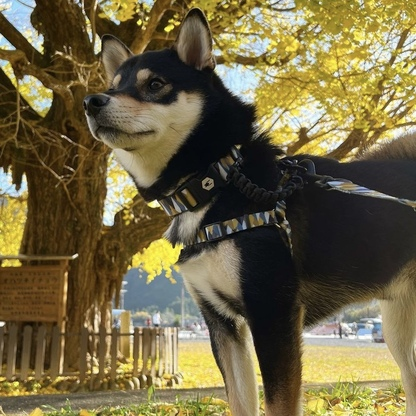shiba: (79, 5, 416, 412)
